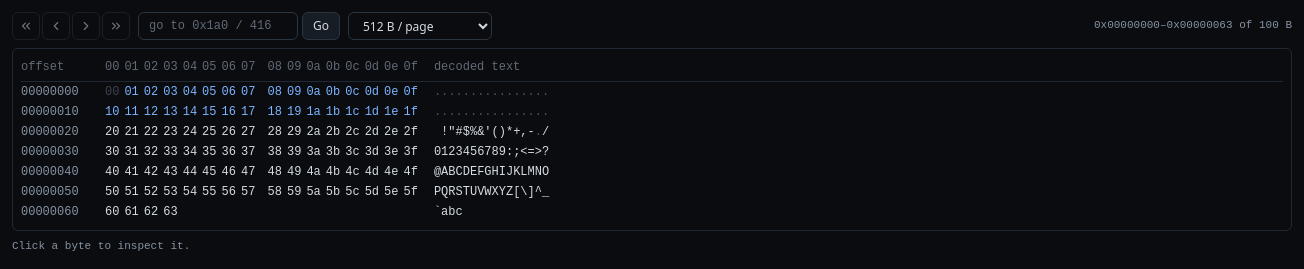
Test: <HexViewer> › inspects a clicked byte (hex, decimal, binary, char)
Step 1. Click the button named "byte at 65" → (132,172), box x1=124 y1=162 x2=139 y2=182
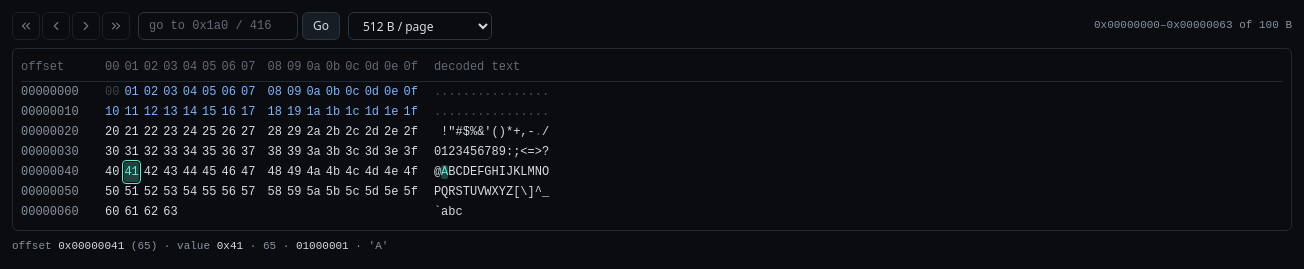
Expected: the text "offset 0x00000041 (65) · value 0x41 · 65 · 01000001 · 'A'" is shown, x1=12 y1=240 x2=388 y2=252
